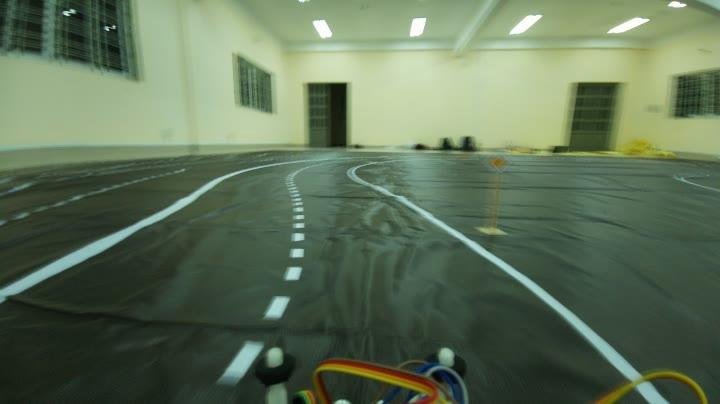priority: (484, 147, 512, 180)
